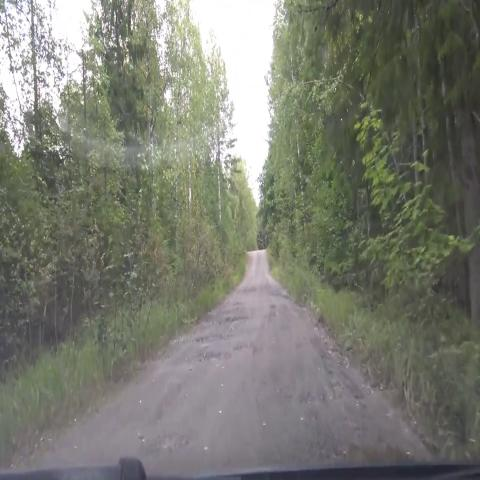pothole: (306, 315, 373, 411), (130, 416, 201, 461), (280, 371, 326, 427), (187, 346, 236, 373), (227, 329, 264, 358), (219, 305, 256, 330), (184, 330, 231, 349), (264, 298, 286, 328), (240, 281, 262, 299), (274, 286, 293, 306)
